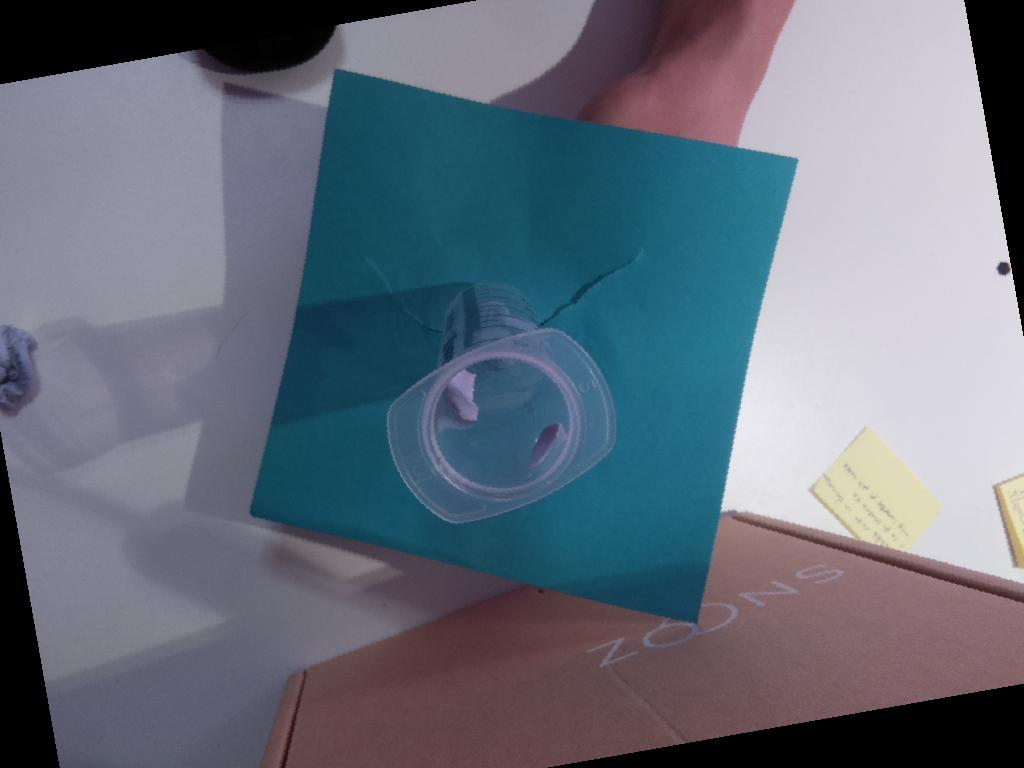dirty: (386, 328, 615, 525)
